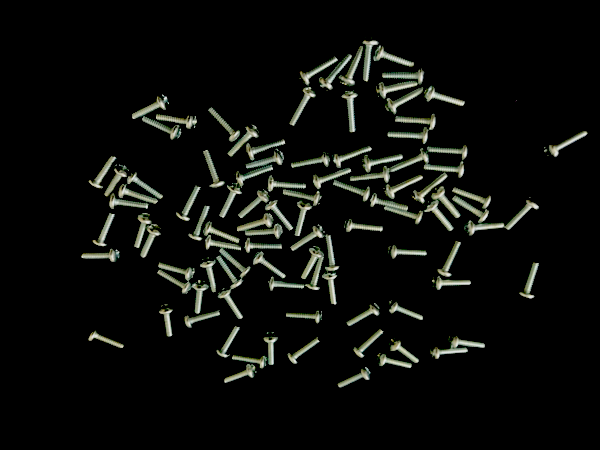shortscrew: (319, 52, 355, 92), (544, 129, 590, 160), (298, 55, 340, 86), (505, 196, 541, 232), (208, 106, 243, 143), (289, 84, 319, 127), (226, 124, 262, 158), (127, 169, 164, 200), (452, 195, 491, 224), (131, 93, 171, 121), (388, 148, 431, 174), (339, 45, 365, 88), (142, 115, 183, 142), (88, 153, 118, 189), (385, 87, 424, 114), (374, 43, 416, 68), (216, 255, 246, 290), (331, 143, 371, 169), (352, 328, 385, 359), (218, 248, 252, 278), (253, 251, 288, 280), (265, 198, 294, 232), (287, 337, 322, 365), (291, 224, 326, 252), (346, 300, 382, 327), (384, 202, 424, 226), (424, 87, 467, 109), (452, 186, 493, 209), (332, 179, 371, 203), (177, 185, 203, 221), (437, 241, 462, 278), (219, 182, 244, 219), (157, 270, 194, 295), (246, 138, 286, 161), (235, 164, 275, 187), (203, 149, 226, 189), (386, 298, 424, 322), (118, 183, 159, 205), (388, 338, 421, 365), (218, 287, 245, 320), (104, 164, 130, 198), (368, 192, 410, 213), (360, 36, 379, 82), (245, 149, 286, 170), (203, 221, 240, 244), (139, 224, 164, 258), (361, 153, 403, 173), (92, 213, 116, 248), (520, 261, 542, 299), (188, 205, 211, 241), (340, 90, 359, 133), (300, 246, 324, 280), (290, 150, 330, 170), (87, 328, 125, 349), (237, 212, 275, 233), (156, 112, 198, 131), (423, 161, 467, 179), (337, 366, 371, 389), (158, 261, 197, 281), (387, 242, 428, 261), (133, 212, 154, 249), (387, 127, 430, 145), (395, 113, 438, 131), (376, 82, 419, 100), (216, 326, 240, 358), (382, 68, 426, 85), (224, 364, 258, 386), (294, 200, 314, 237), (432, 274, 472, 292), (427, 143, 469, 160), (245, 222, 284, 240), (199, 258, 219, 293), (464, 220, 505, 237), (447, 333, 488, 350), (344, 217, 385, 234), (350, 167, 391, 184), (81, 248, 121, 265), (110, 193, 150, 210), (184, 311, 221, 329), (376, 352, 412, 370), (324, 234, 341, 272), (305, 257, 324, 291), (429, 345, 469, 361), (205, 235, 242, 252), (321, 271, 339, 305), (268, 276, 306, 292), (158, 303, 175, 338), (231, 353, 268, 369), (245, 239, 284, 254), (192, 280, 209, 314), (264, 332, 279, 366), (286, 311, 324, 324)
